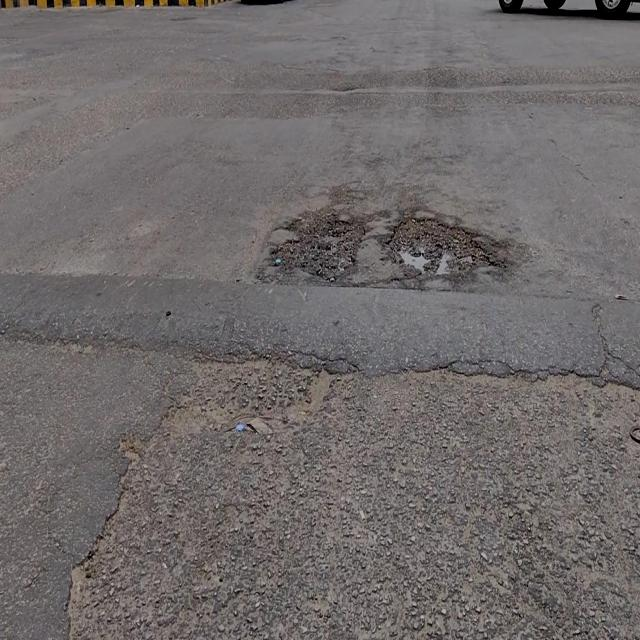Potholes: (266, 205, 364, 283), (386, 212, 503, 276)
